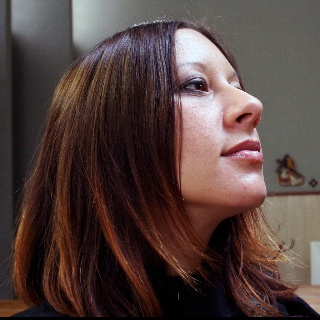without_mask: (172, 27, 270, 220)
